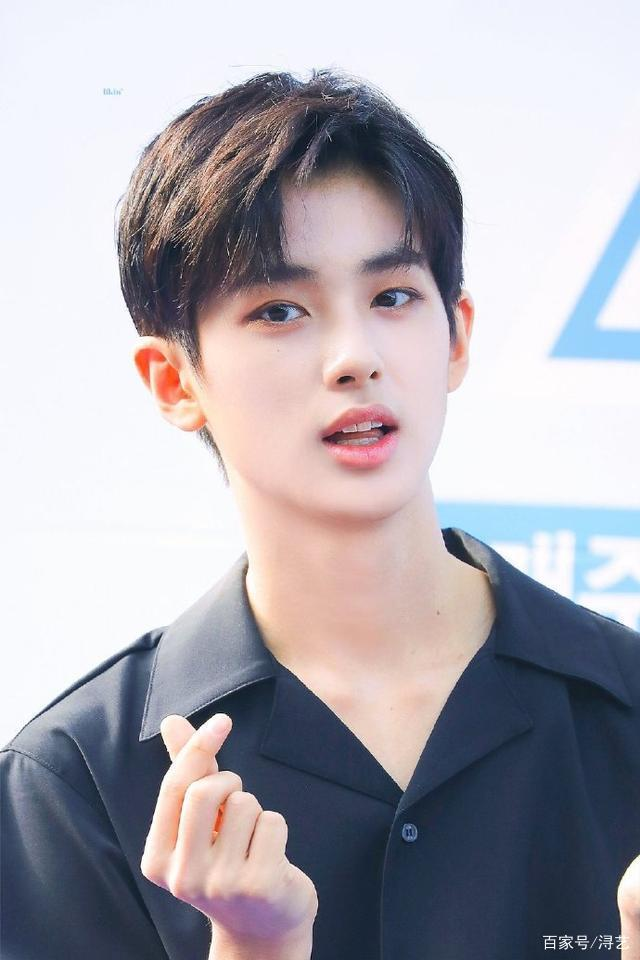person: (60, 59, 579, 900)
